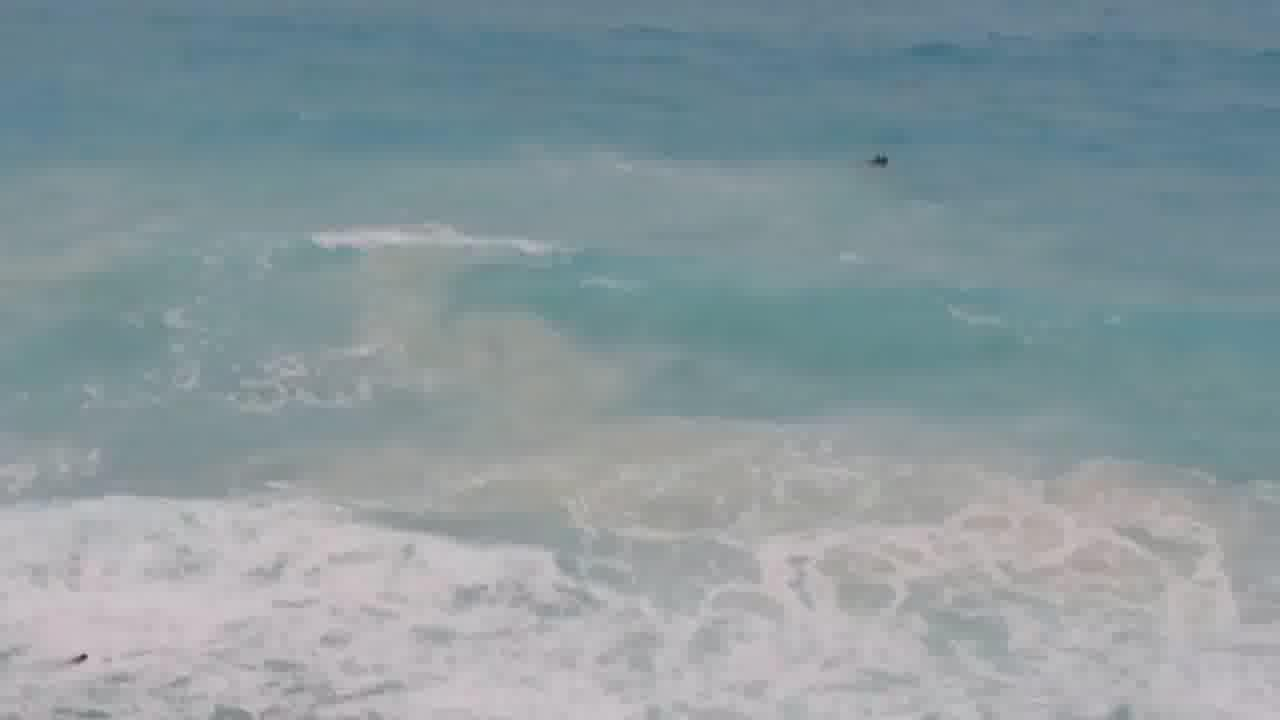swimmer: (859, 143, 903, 183)
